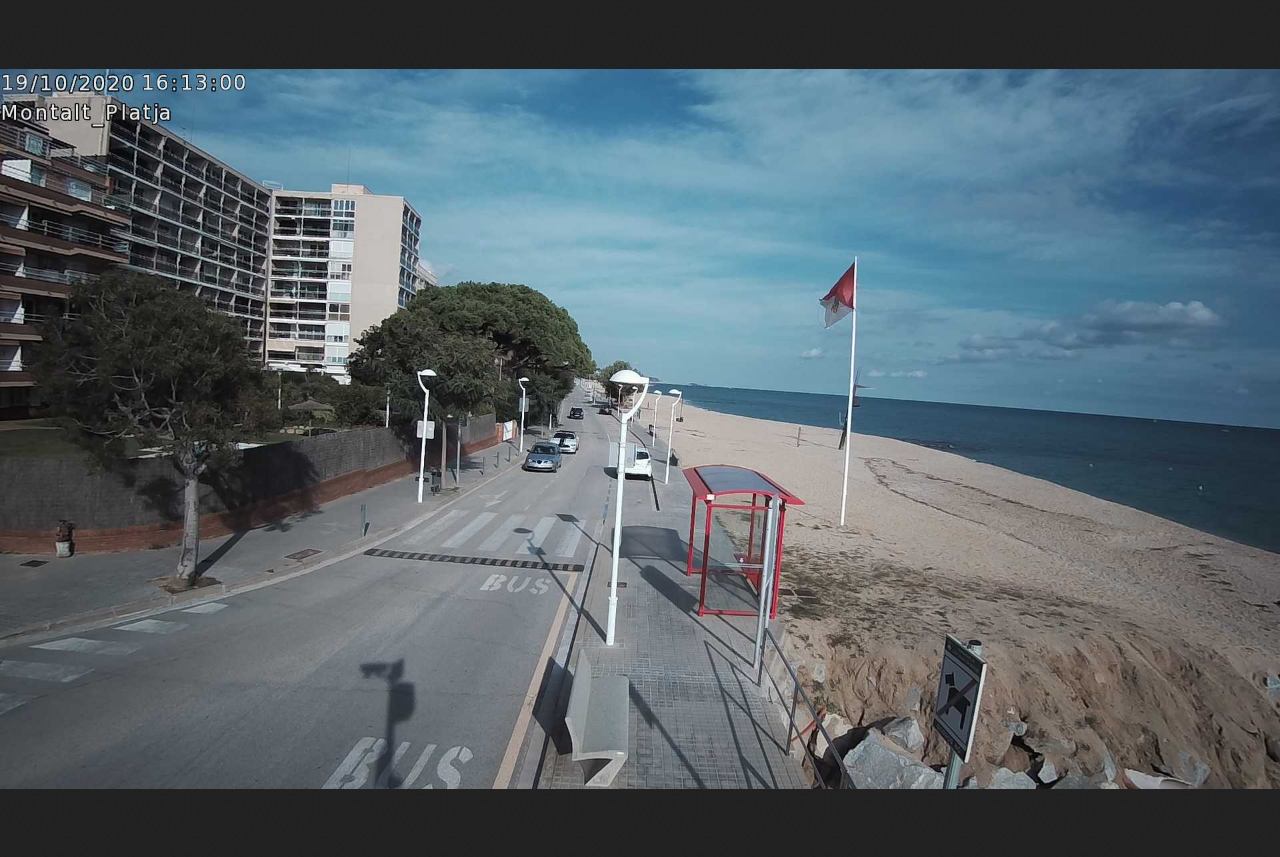maybe: (817, 264, 852, 330)
